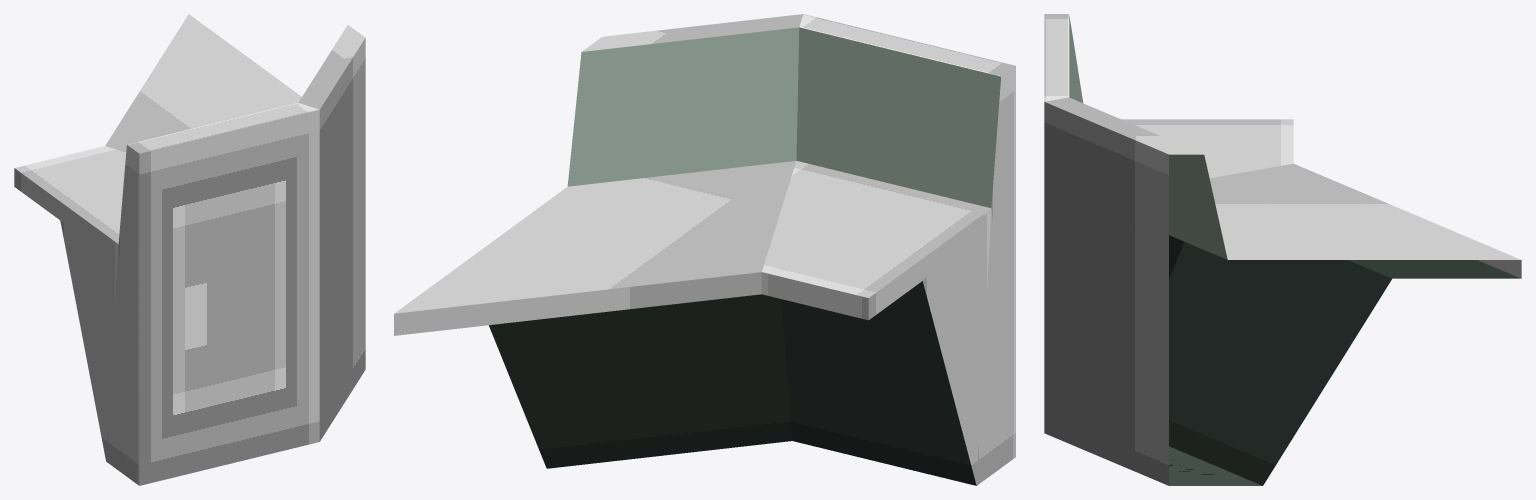
The model's file is run_desk_inside_bend_a_item.obj.
3 views of the same model, side by side, from view 1: azimuth 30°, elevation 25°; view 2: azimuth 150°, elevation 25°; view 3: azimuth 270°, elevation 25° (orthographic). The views are drawn at different scales.
Size of the model in its own units: 1 by 1.1 by 1.44.
